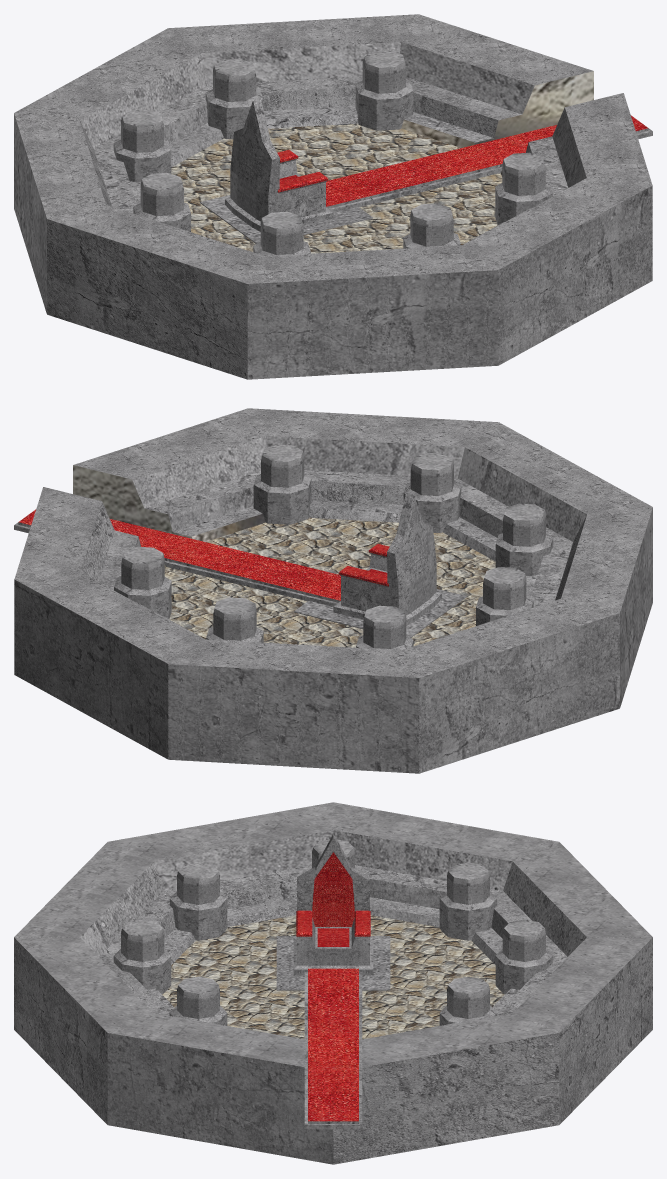
The model's file is court room but better.glb.
3 views of the same model, one above another, from view 1: azimuth 30°, elevation 25°; view 2: azimuth 150°, elevation 25°; view 3: azimuth 270°, elevation 25° (orthographic). The views are drawn at different scales.
Visible parts, largest first — view 1: Cylinder, Cylinder.001, Cube.002, Cube, Cube.001; view 2: Cylinder, Cylinder.001, Cube.002, Cube, Cube.001; view 3: Cylinder, Cylinder.001, Cube, Cube.002, Cube.001.
Part boxes in pixels (x1,y1,x2,y2): Cylinder: (14,14,652,379); Cylinder.001: (113,50,552,256); Cube.002: (225,98,333,231); Cube: (326,115,652,212); Cube.001: (200,195,372,243); Cylinder: (14,408,652,773); Cylinder.001: (114,444,553,650); Cube.002: (333,492,441,625); Cube: (14,509,340,606); Cube.001: (294,589,466,637); Cylinder: (14,802,652,1164); Cylinder.001: (113,839,553,1025); Cube: (304,968,362,1129); Cube.002: (293,833,373,975); Cube.001: (276,936,390,990).
Size of the model in its own units: 22.91 by 6.07 by 22.19.
Materials: 5 (5 with a texture image).
